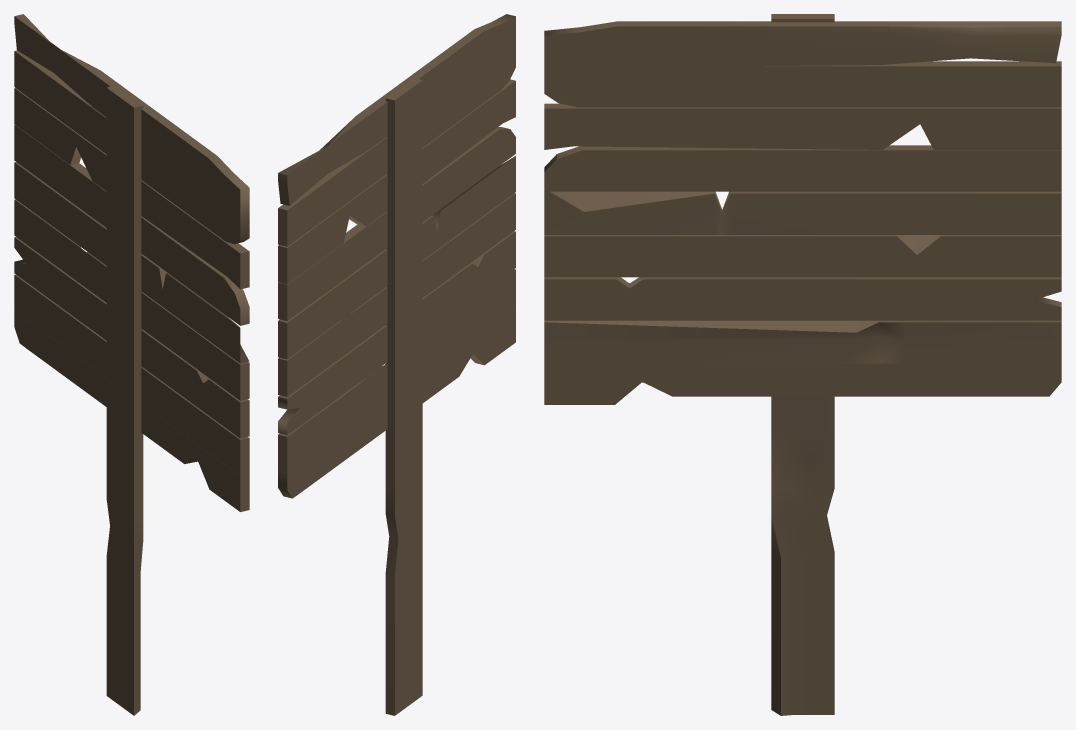
Rendered from Sign.fbx.
The picture shows the model from 3 angles, left to right: view 1: azimuth 30°, elevation 25°; view 2: azimuth 150°, elevation 25°; view 3: azimuth 270°, elevation 25°; orthographic projection. The views are drawn at different scales.
Parts seen in each view (by area): view 1: Sign_; view 2: Sign_; view 3: Sign_.
Part boxes in pixels (<box>): Sign_: <box>14,14,249,715</box>; Sign_: <box>278,14,515,715</box>; Sign_: <box>544,14,1061,715</box>.
Size of the model in its own units: 0.1816 by 6.49 by 4.37.
